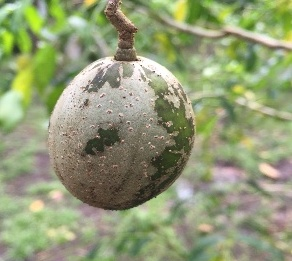Coc: (48, 55, 197, 212)
